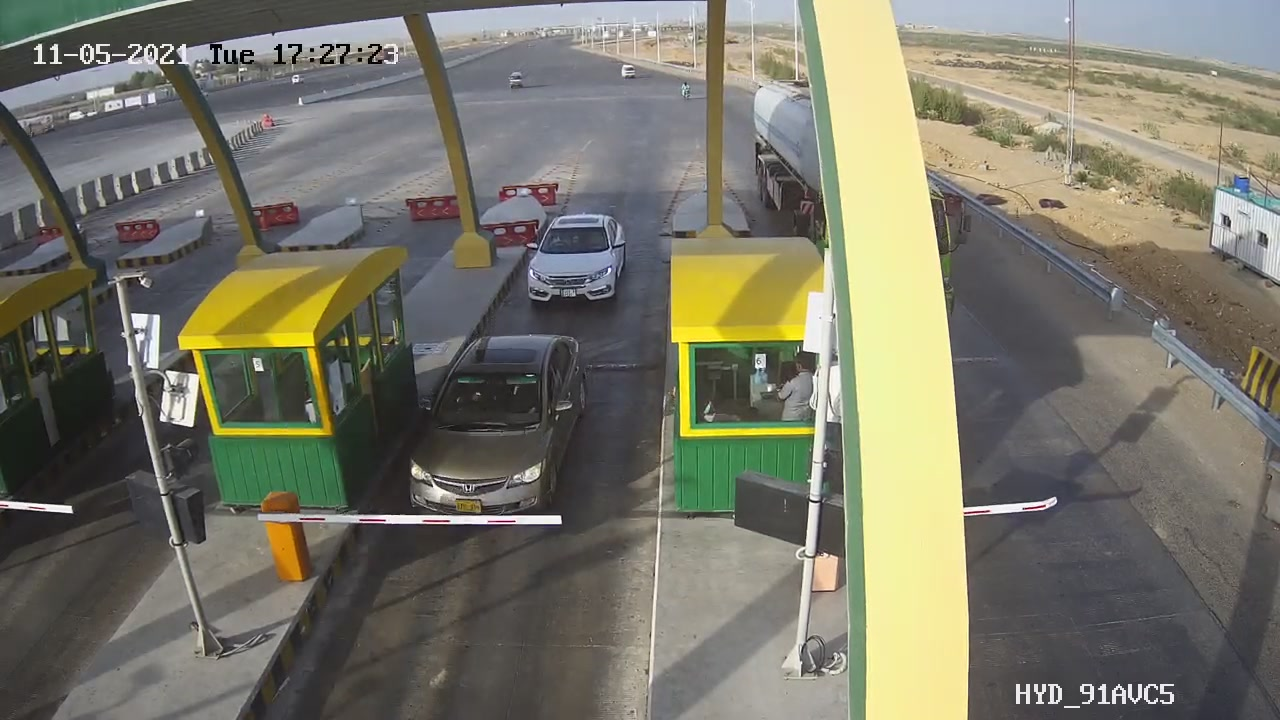F1: (383, 317, 607, 540), (511, 203, 648, 316)
